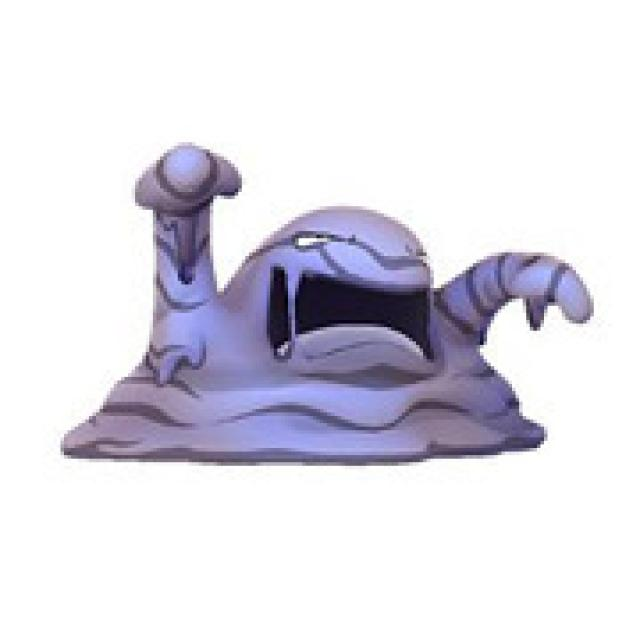Grimer: (145, 208, 516, 458)
